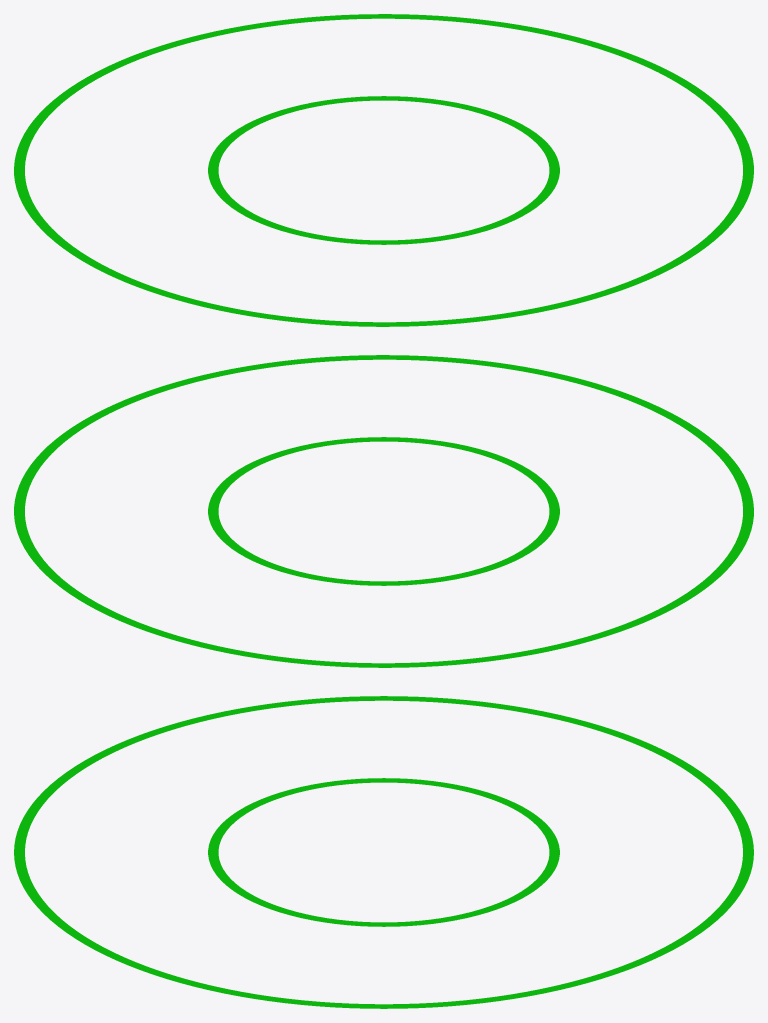
The model's file is ring_2.fbx.
3 views of the same model, one above another, from view 1: azimuth 30°, elevation 25°; view 2: azimuth 150°, elevation 25°; view 3: azimuth 270°, elevation 25° (orthographic).
Parts seen in each view (by area): view 1: r2; view 2: r2; view 3: r2.
Part boxes in pixels (x1,y1,x2,y2): r2: (14, 14, 753, 326); r2: (14, 355, 753, 667); r2: (14, 696, 753, 1008).
Size of the model in its own units: 616 by 0 by 616.
